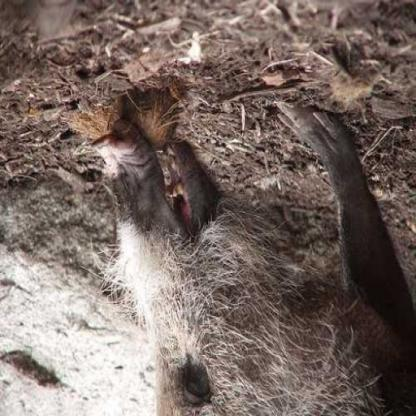boar: (35, 83, 415, 416)
